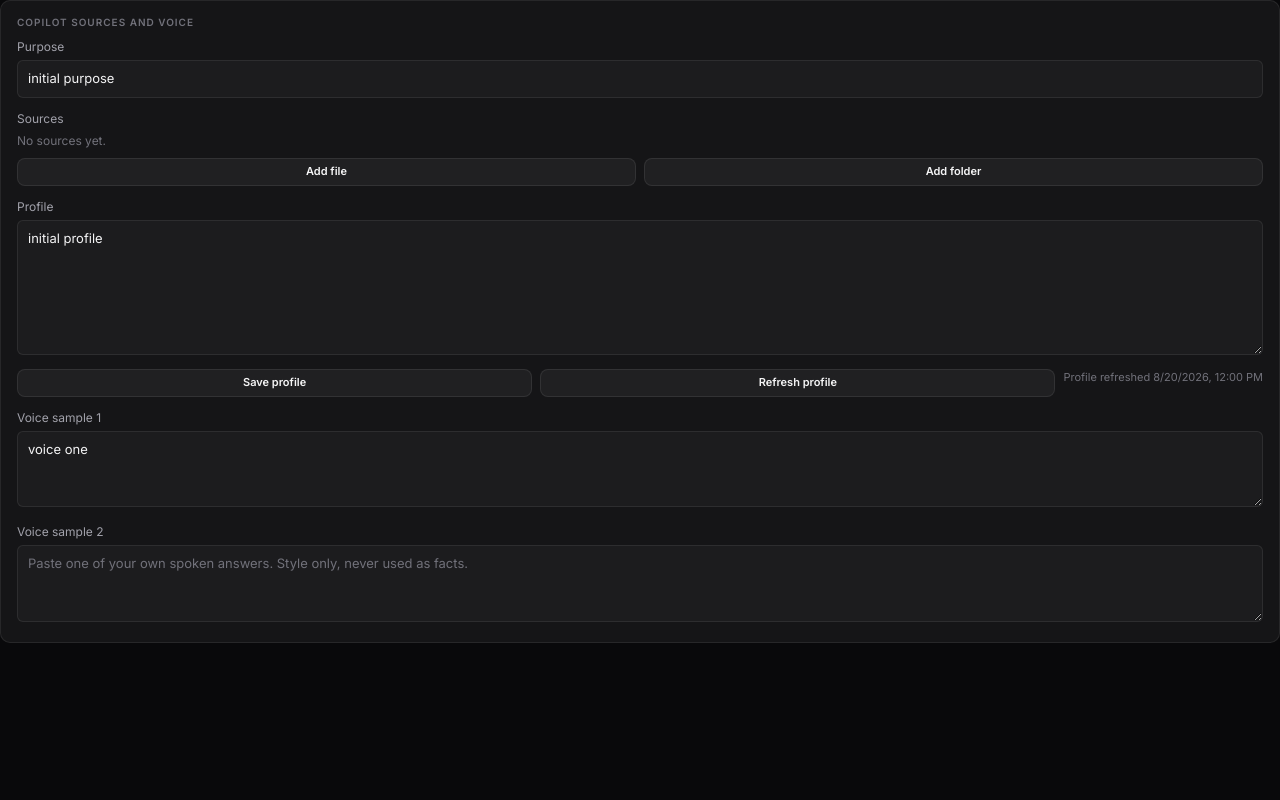
Scenario: FolderCopilotCard › Refresh profile shows returned text and status line
Expected: the text box showing "initial profile" is shown, left=17, top=220, right=1263, bottom=354
Click the button "Refresh profile": (798, 382) left=540, top=368, right=1055, bottom=396
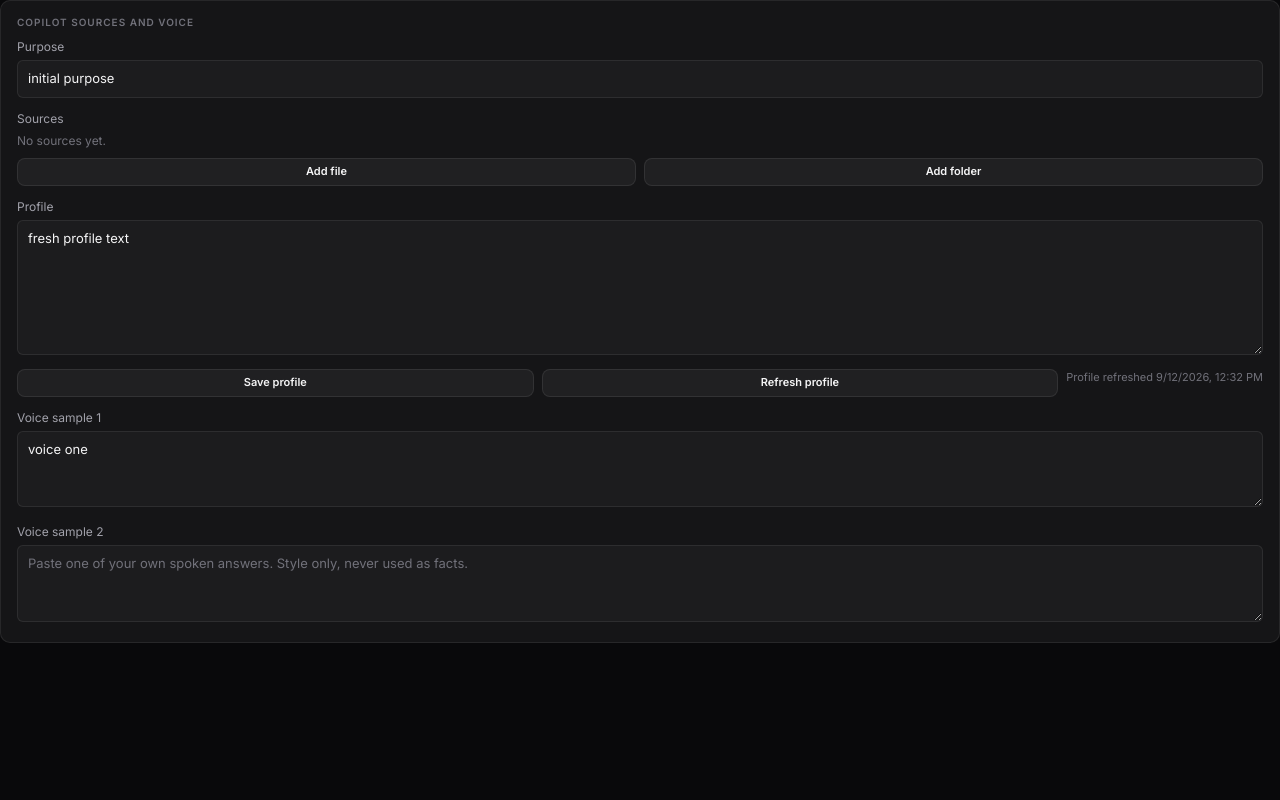
Expected: the text "Profile refreshed 9/12/2026, 12:32 PM" is shown, left=1066, top=370, right=1263, bottom=384
Result: the text box showing "fresh profile text" is shown at left=17, top=220, right=1263, bottom=354
